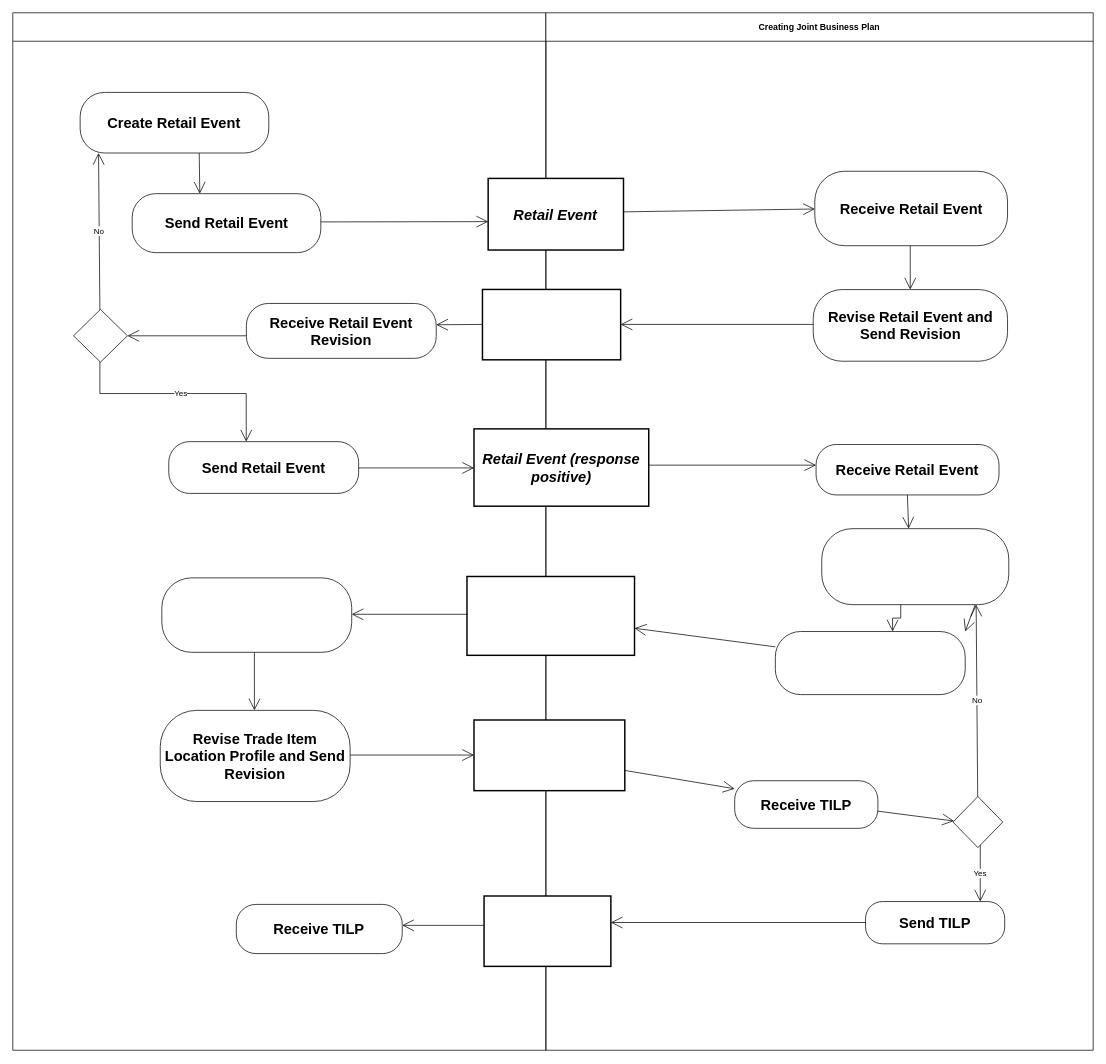
This 1106x1064 diagram has some shape labels left out. The box of each missing label's shape, as (x1, y1, x2, y2) in pixels:
Create Trade Item Location Profile: (821, 528, 1009, 605)
Receive Trade Item Location Profile: (161, 577, 352, 652)
Retail Event (revision): (481, 288, 621, 360)
Send Trade Item Location Profile: (775, 631, 965, 695)
TILP (response positive): (483, 895, 611, 967)
Trade Item Location Profile: (466, 575, 635, 656)
Trade Item Location Profile (revision): (473, 719, 625, 791)
